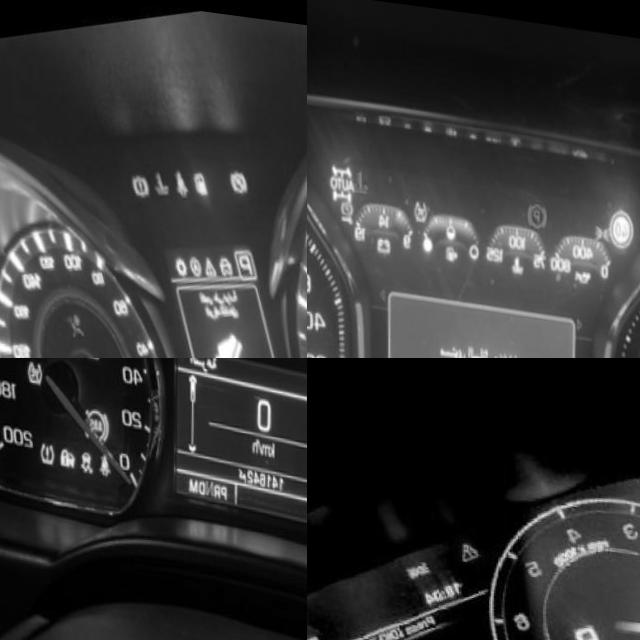Engine cooling system: (148, 159, 173, 196), (351, 161, 370, 191)
Low fuel level: (189, 159, 211, 193)
Seat Belt: (95, 448, 111, 476)
